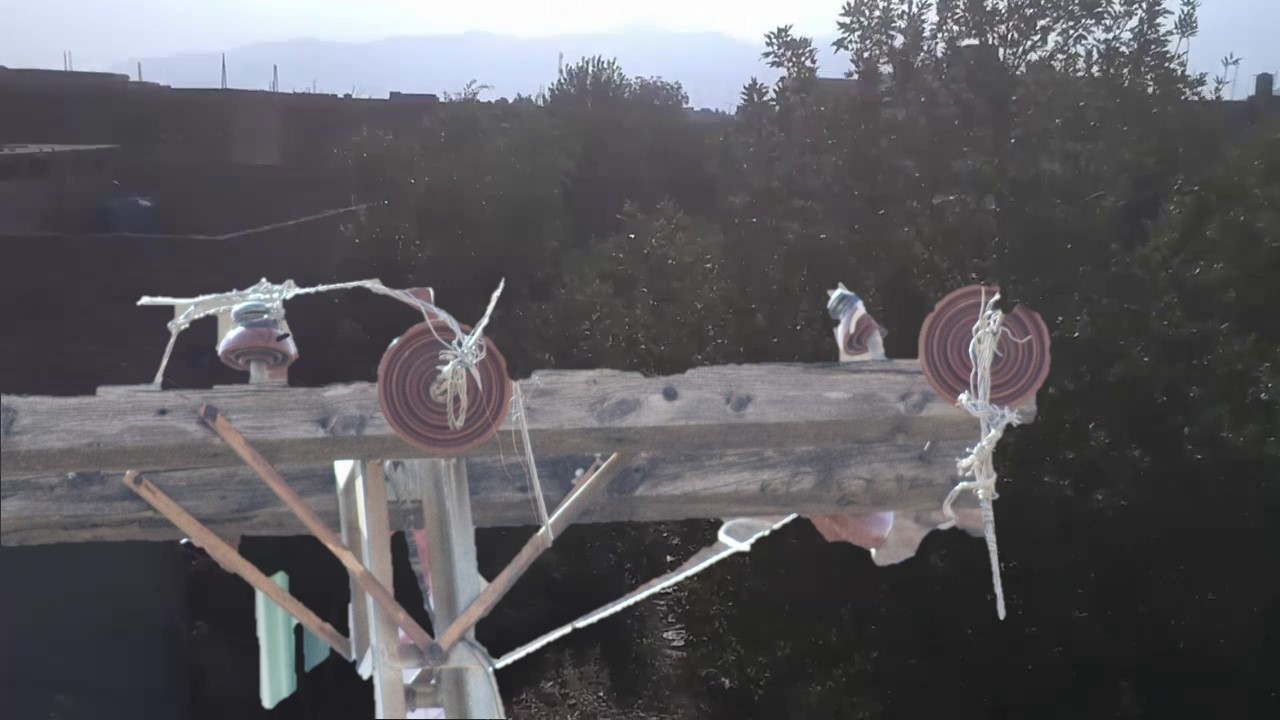defect_pin: (816, 279, 895, 371)
insulator_disc: (372, 310, 522, 456), (915, 275, 1058, 417)
insulator_pin: (208, 294, 303, 375)
